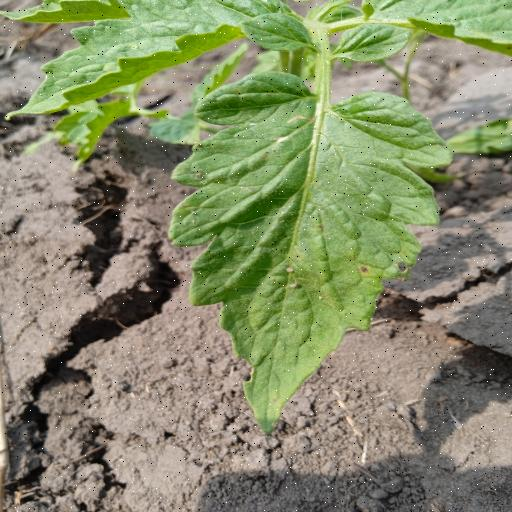Tomato_Brown_Spots: (162, 69, 448, 426)
